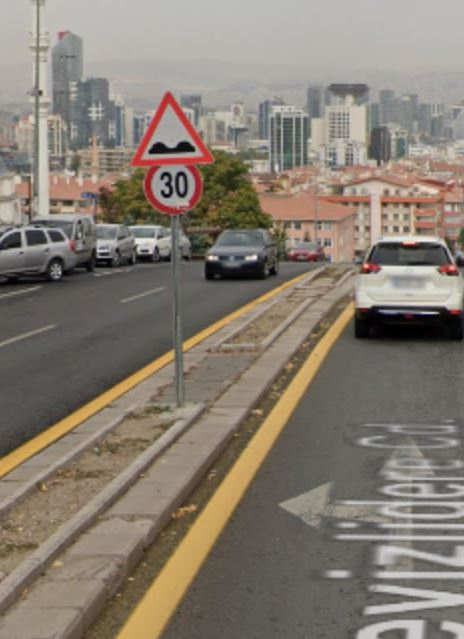30 Km Hiz Siniri: (136, 163, 211, 216)
Kasisli Yol: (132, 94, 214, 162)
